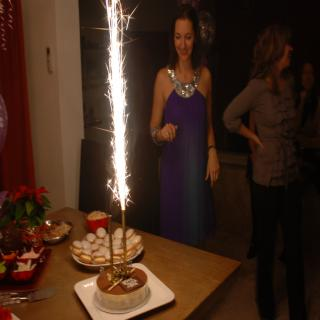Cake: (98, 264, 148, 310)
